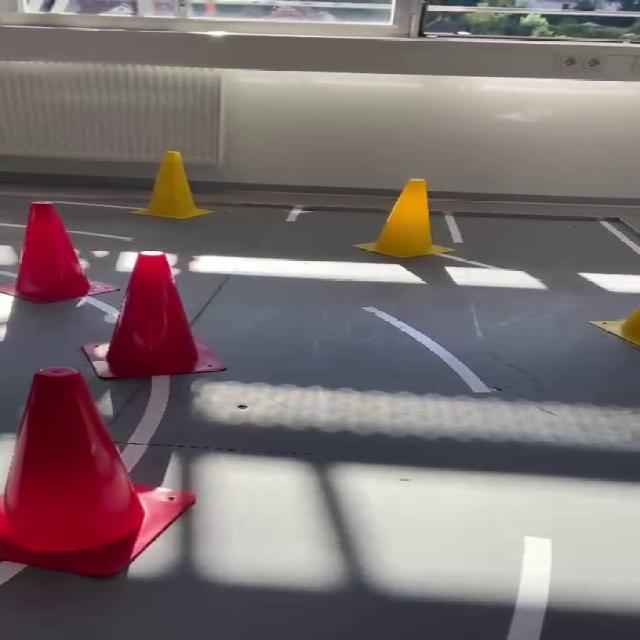Cone-red: (0, 368, 193, 576), (81, 253, 223, 378), (0, 202, 114, 303)
Cones-yellow: (354, 178, 452, 257), (134, 151, 212, 219), (622, 308, 639, 345)
